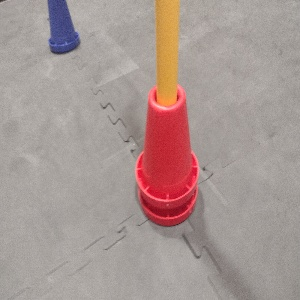Blue_1: (43, 0, 81, 55)
Red_2: (133, 81, 200, 226)
